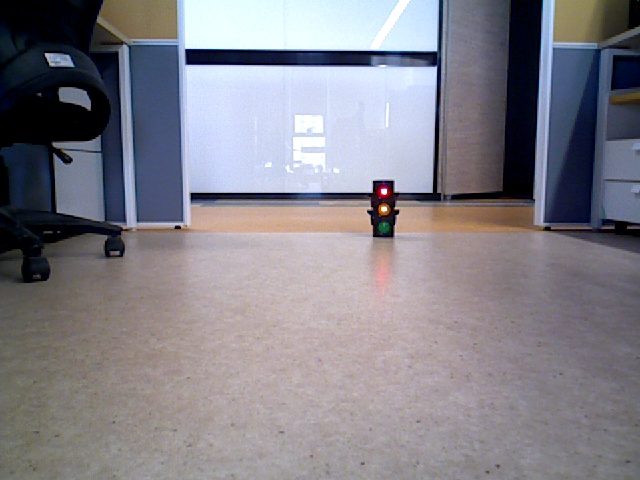red: (372, 182, 394, 234)
